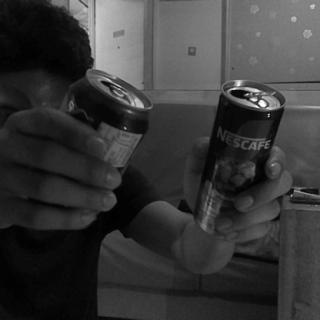alumunium_can: (190, 78, 288, 240), (57, 66, 156, 179)
